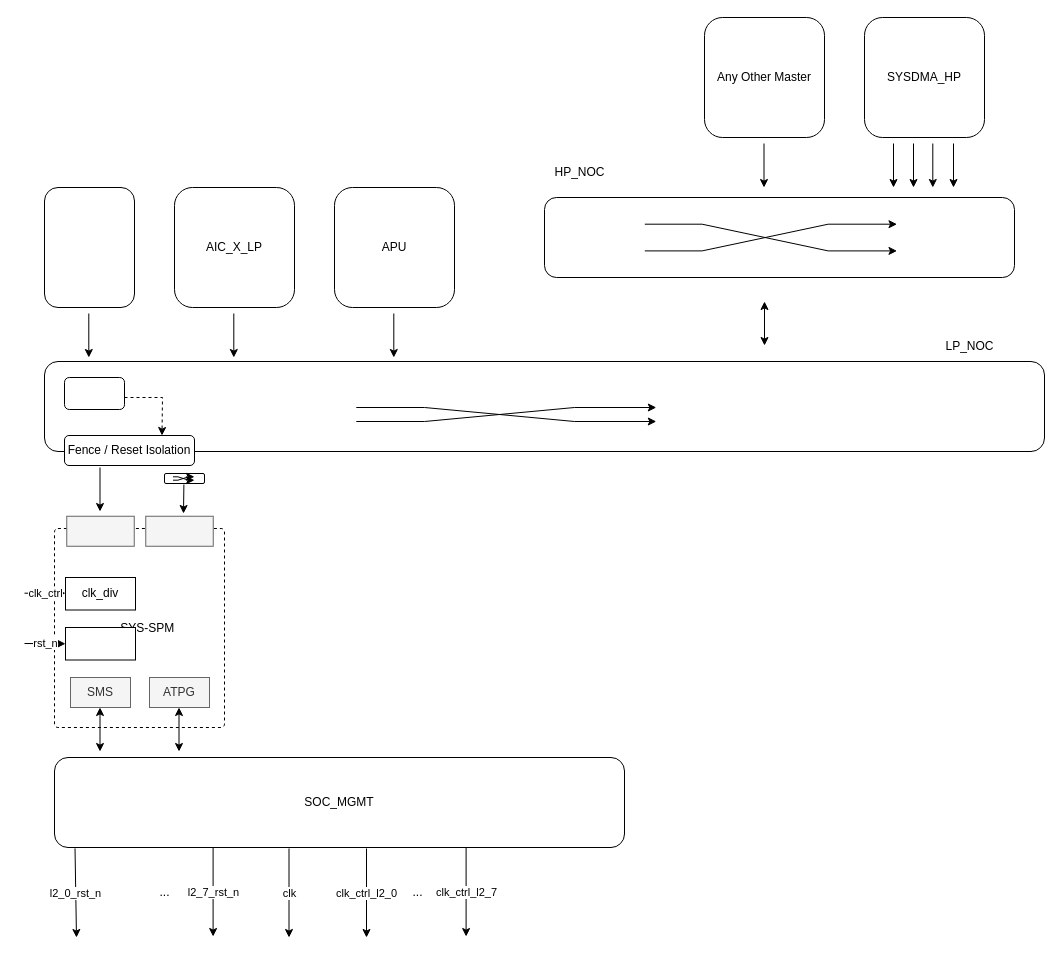
Some shapes in this 1062 by 963 pixel diagram are drawn without their labels. The shapes that lost their labels are listed below. From the top down, each one's centre as x and y in pixels, then its label:
At (x=89, y=247): "PCIE".
At (x=94, y=393): "CSR".
At (x=100, y=530): "AXI".
At (x=179, y=530): "APB".
At (x=100, y=643): "rst_sync".
